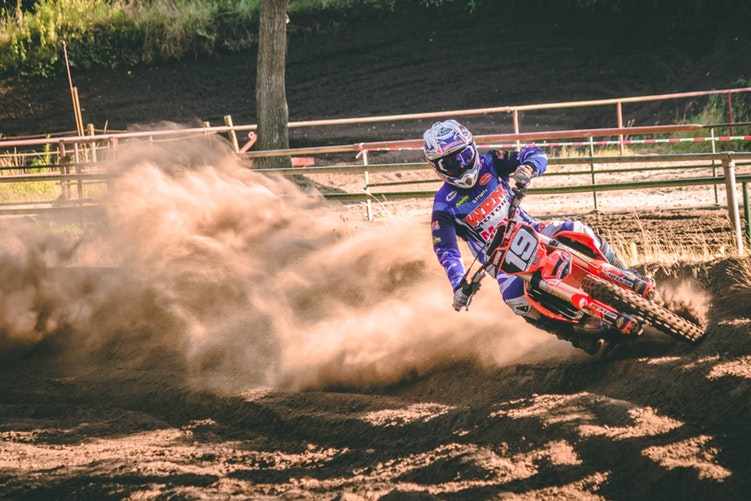helmet: (418, 124, 485, 194)
